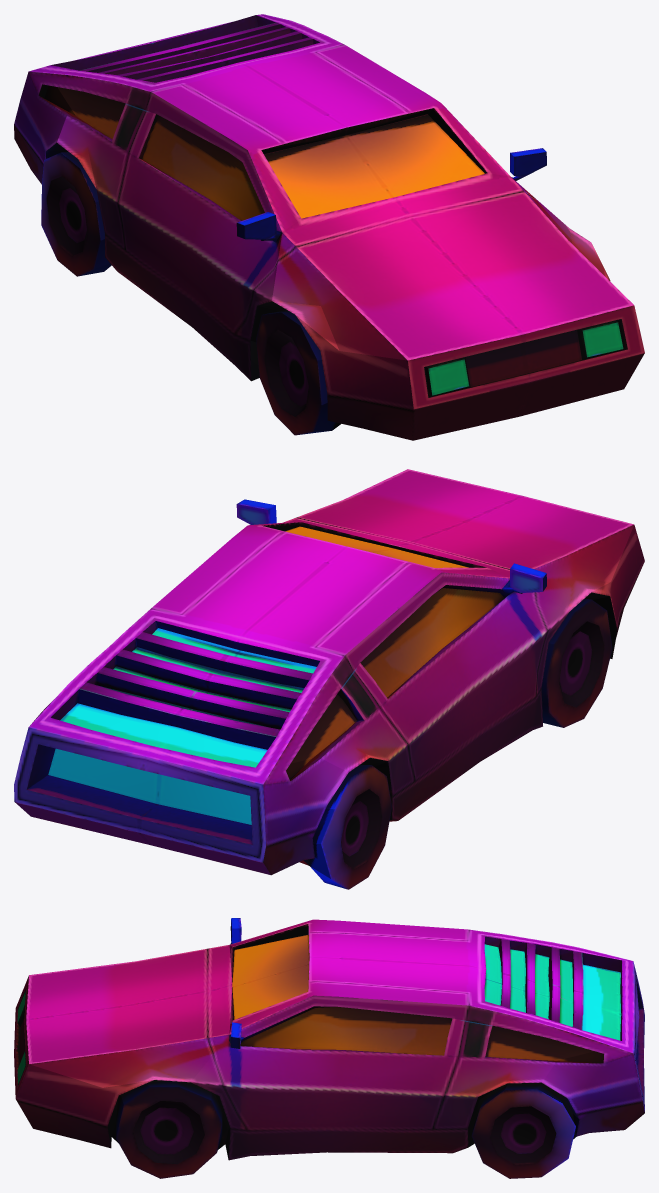
Rendered from urban_env_car.gltf.
3 renders of one model, top to bottom at view 1: azimuth 30°, elevation 25°; view 2: azimuth 150°, elevation 25°; view 3: azimuth 270°, elevation 25°, orthographic. The views are drawn at different scales.
Parts seen in each view (by area): view 1: urban_env_car_glb; view 2: urban_env_car_glb; view 3: urban_env_car_glb.
Part boxes in pixels (bbox=[...]): urban_env_car_glb: bbox=[14, 14, 644, 440]; urban_env_car_glb: bbox=[14, 469, 644, 889]; urban_env_car_glb: bbox=[14, 918, 644, 1178].
Size of what is drawn, in the model's own units: 1.42 by 0.9081 by 3.15.
1 material, 1 textured.
